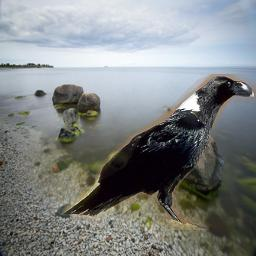Crow: (62, 74, 256, 230)
